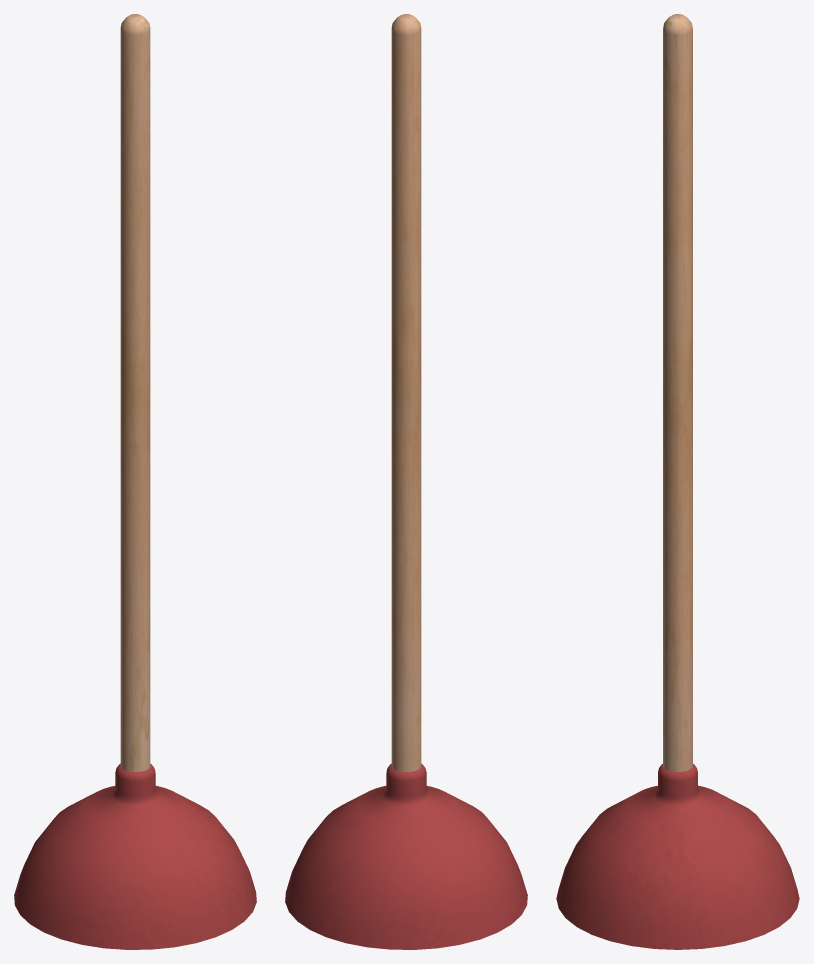
The model's file is Bathroom_And_Misc_6.fbx.
3 renders of one model, left to right at view 1: azimuth 30°, elevation 25°; view 2: azimuth 150°, elevation 25°; view 3: azimuth 270°, elevation 25°, orthographic.
Visible parts, largest first — view 1: Cylinder.005; view 2: Cylinder.005; view 3: Cylinder.005.
Part boxes in pixels (box(x1,y1,x2,y2)): Cylinder.005: box(14, 14, 256, 949); Cylinder.005: box(285, 14, 527, 949); Cylinder.005: box(556, 14, 799, 949).
Size of the model in its own units: 23.53 by 94.59 by 23.53.
